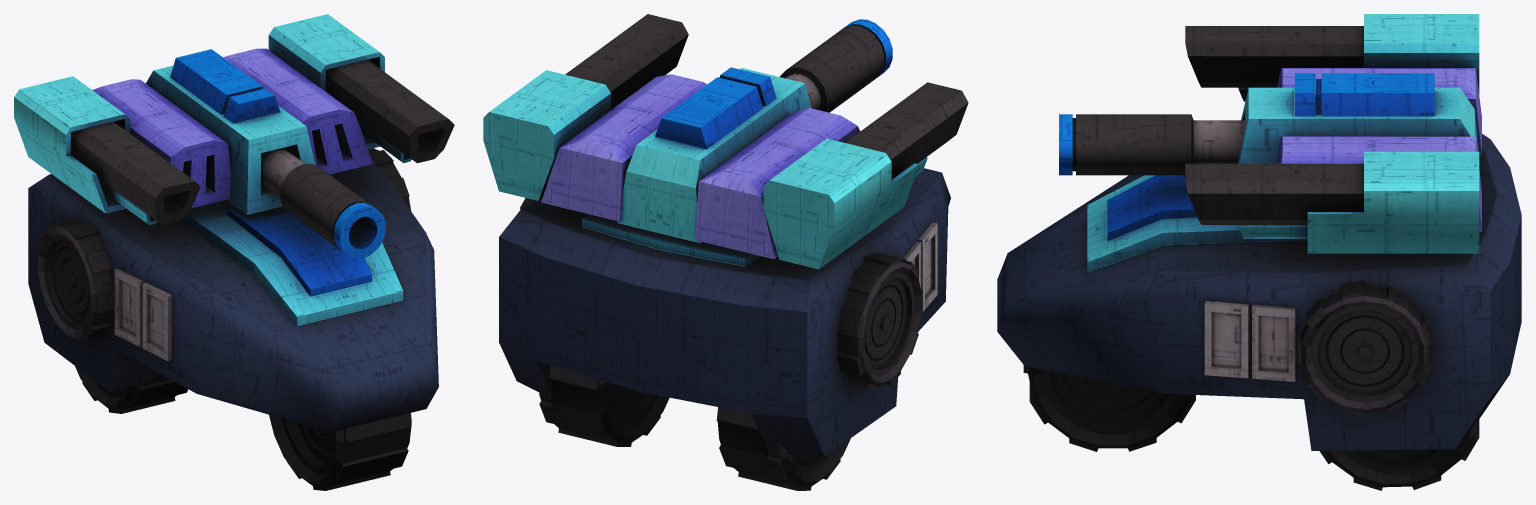
Rendered from PlayerA18.obj.
3 renders of one model, left to right at view 1: azimuth 30°, elevation 25°; view 2: azimuth 150°, elevation 25°; view 3: azimuth 270°, elevation 25°, orthographic. The views are drawn at different scales.
Visible parts, largest first — view 1: Object001, Object002, Object004, Object003; view 2: Object001, Object002, Object003; view 3: Object001, Object002, Object004, Object003.
Part boxes in pixels (x1,y1,x2,y2): Object001: (28,48,438,432); Object002: (14,14,454,225); Object004: (269,413,411,490); Object003: (75,364,188,413); Object001: (499,19,950,456); Object002: (483,14,968,269); Object003: (539,365,850,490); Object001: (997,68,1521,450); Object002: (1185,14,1479,253); Object004: (1023,365,1195,451); Object003: (1319,419,1479,490).
Size of the model in its own units: 93.13 by 87.91 by 119.
1 material, 1 textured.
